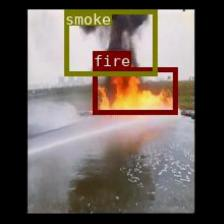fire: (93, 66, 176, 114)
smoke: (63, 9, 156, 75)
